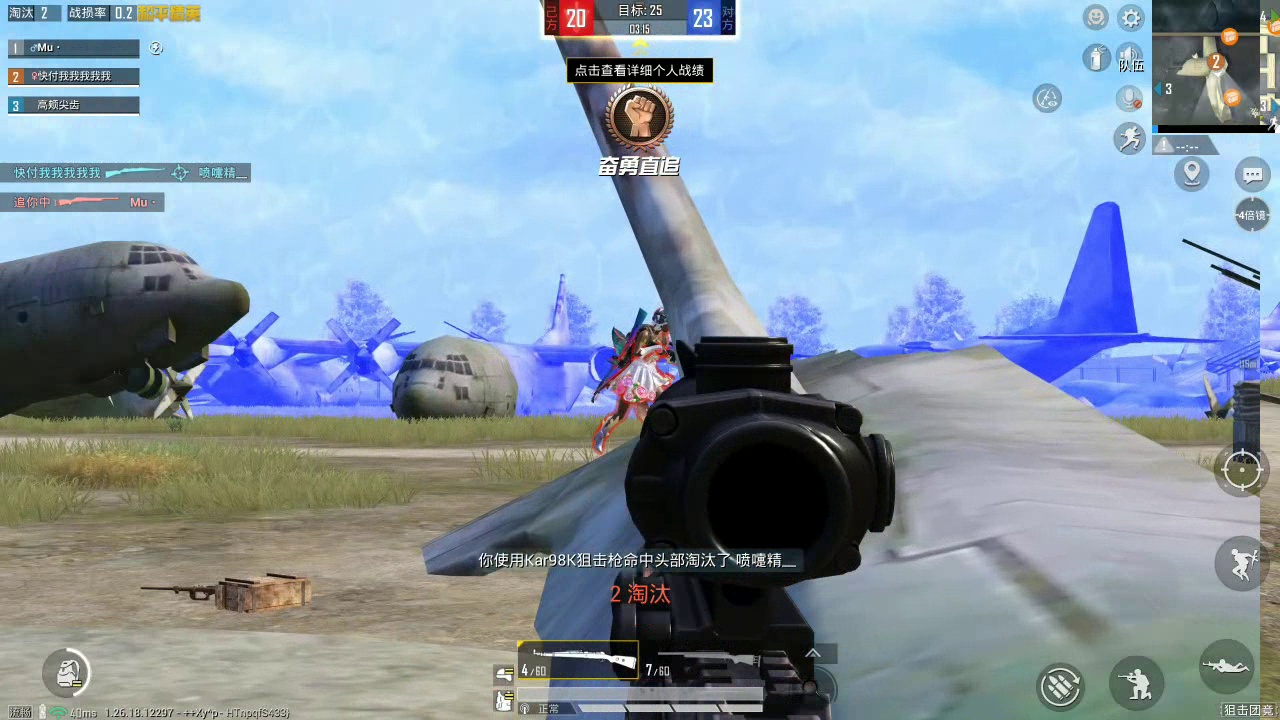enemy: (597, 303, 671, 439)
